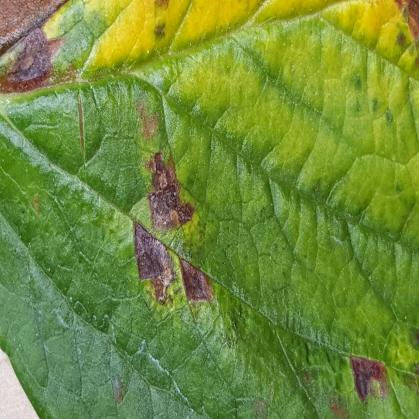Angular Leafspot: (0, 0, 418, 418), (380, 0, 418, 75)
